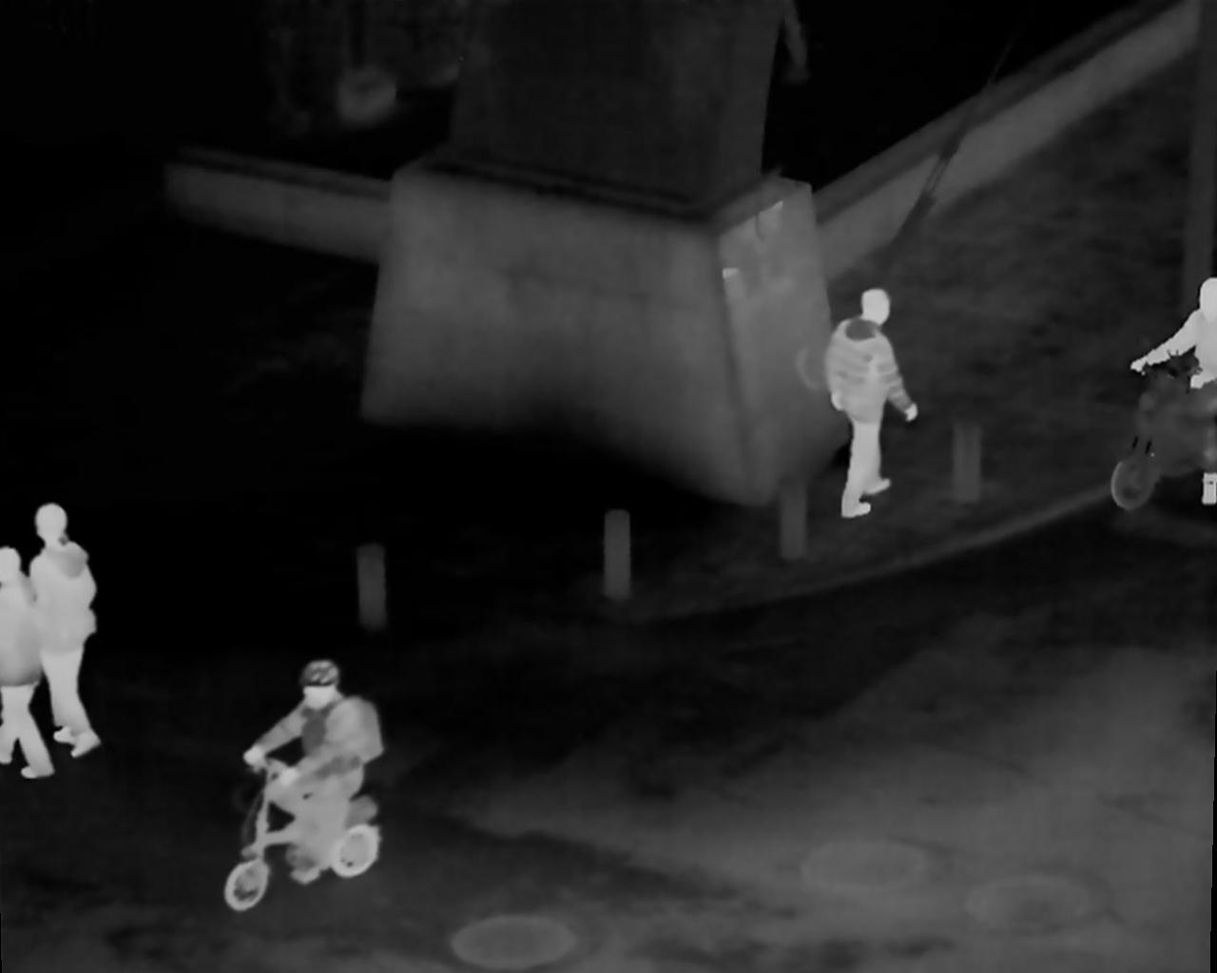person: (802, 293, 919, 511), (256, 660, 365, 859), (1133, 282, 1217, 491), (35, 506, 88, 741), (5, 556, 48, 775)
